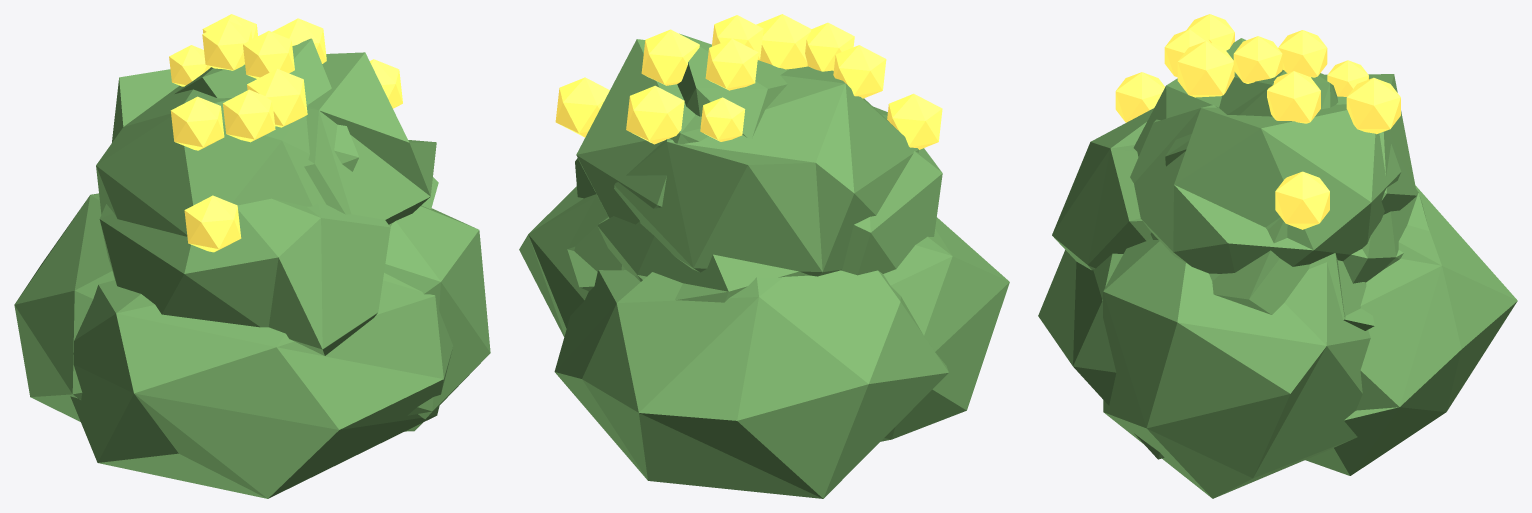
The model's file is sunfruit-bush.glb.
3 renders of one model, left to right at view 1: azimuth 30°, elevation 25°; view 2: azimuth 150°, elevation 25°; view 3: azimuth 270°, elevation 25°, orthographic. The views are drawn at different scales.
Visible parts, largest first — view 1: Leaves, Fruit; view 2: Leaves, Fruit; view 3: Leaves, Fruit.
Part boxes in pixels (x1=…): Leaves: x1=14, y1=38, x2=490, y2=498; Fruit: x1=169, y1=14, x2=402, y2=252; Leaves: x1=519, y1=33, x2=1009, y2=498; Fruit: x1=555, y1=14, x2=942, y2=149; Leaves: x1=1038, y1=38, x2=1517, y2=498; Fruit: x1=1115, y1=14, x2=1400, y2=229.
Size of the model in its own units: 0.9467 by 0.9571 by 1.
